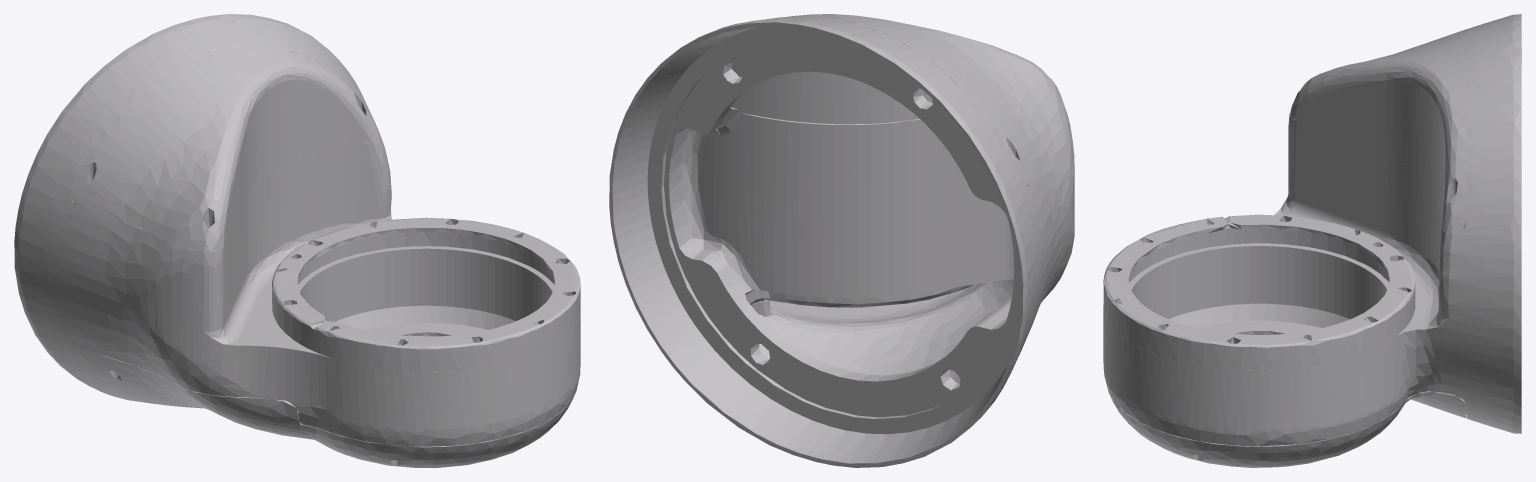
File: r2cl_ext_bone3.dae
3 renders of one model, left to right at view 1: azimuth 30°, elevation 25°; view 2: azimuth 150°, elevation 25°; view 3: azimuth 270°, elevation 25°, orthographic. The views are drawn at different scales.
Visible parts, largest first — view 1: node; view 2: node; view 3: node.
Boxes of the visible parts, x1=… form: node: x1=14, y1=14, x2=580, y2=467; node: x1=609, y1=14, x2=1074, y2=467; node: x1=1103, y1=14, x2=1521, y2=467.
Size of the model in its own units: 0.2057 by 0.1778 by 0.177.
Materials: 1 (1 with a texture image).
